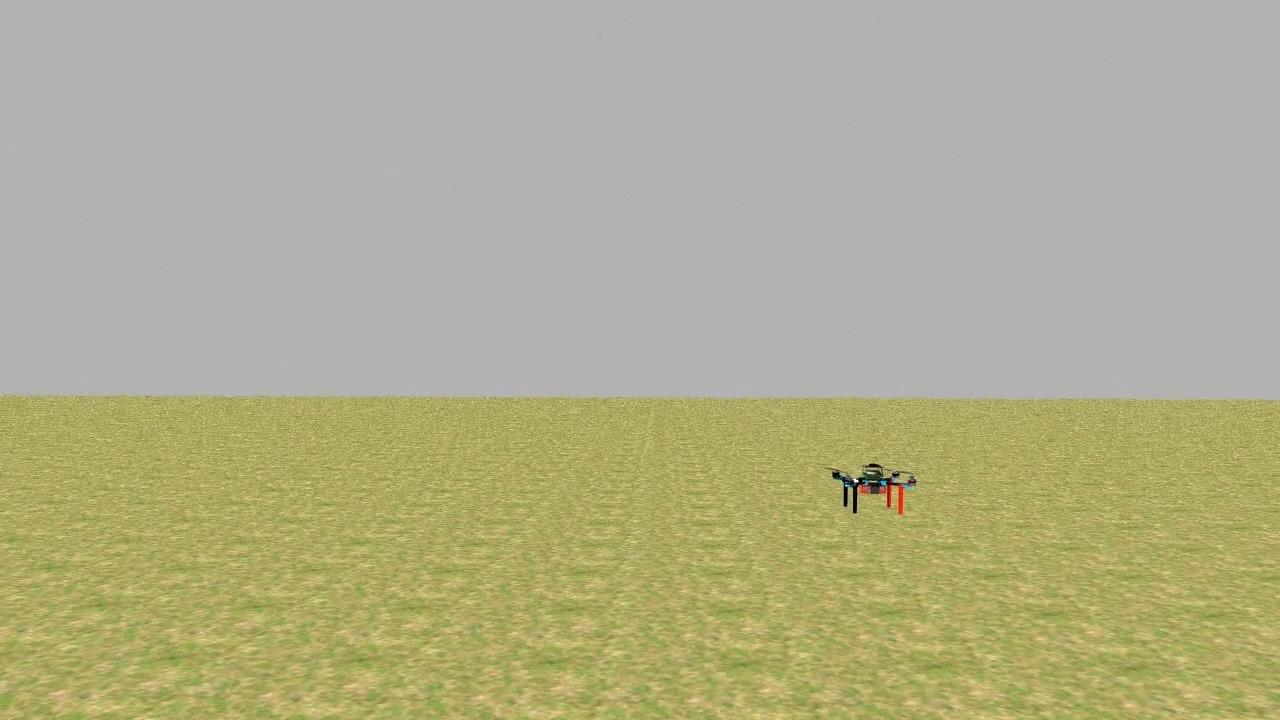UAV: (820, 451, 927, 520)
